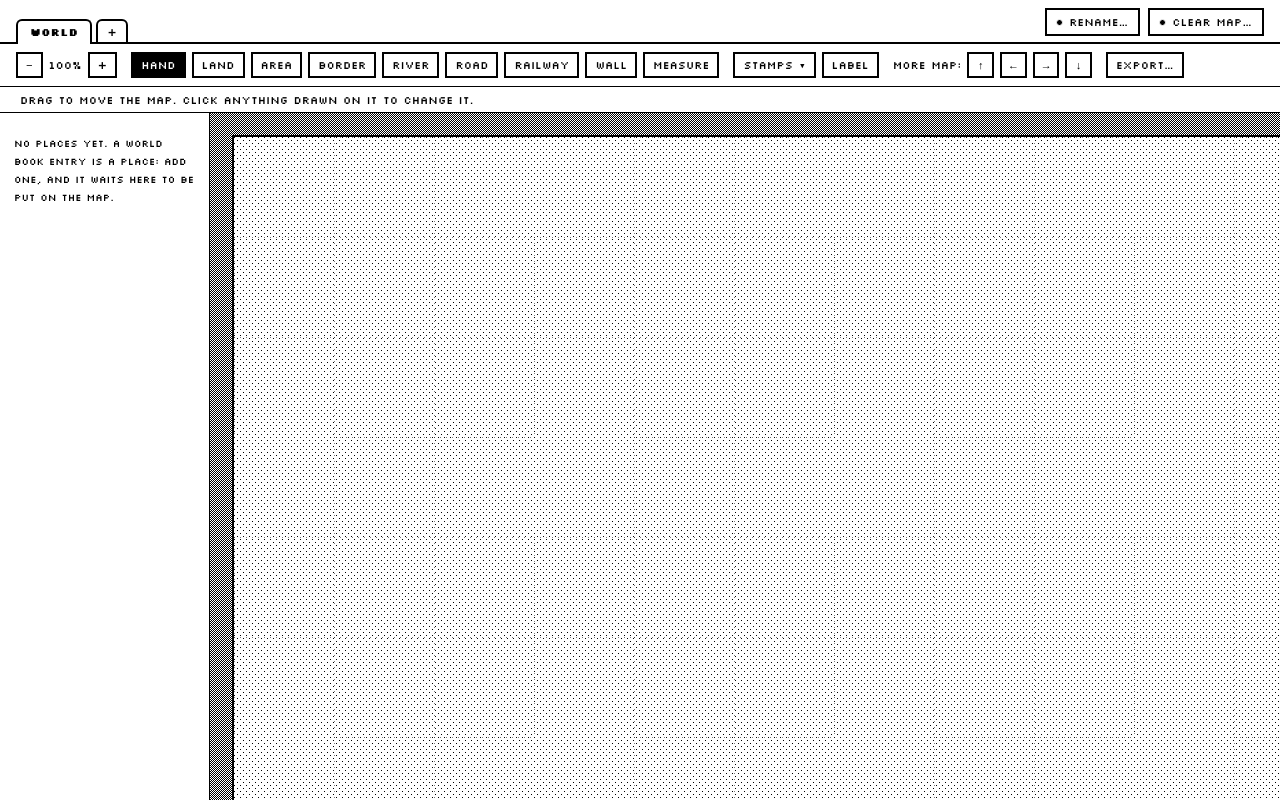
Test: a scale that is not usable › opens the map anyway, with no day’s travel, and offers to set it
The width and height of the screenshot is (1280, 800).
Click the button "Measure".
click(681, 65)  # box [643,52,720,78]
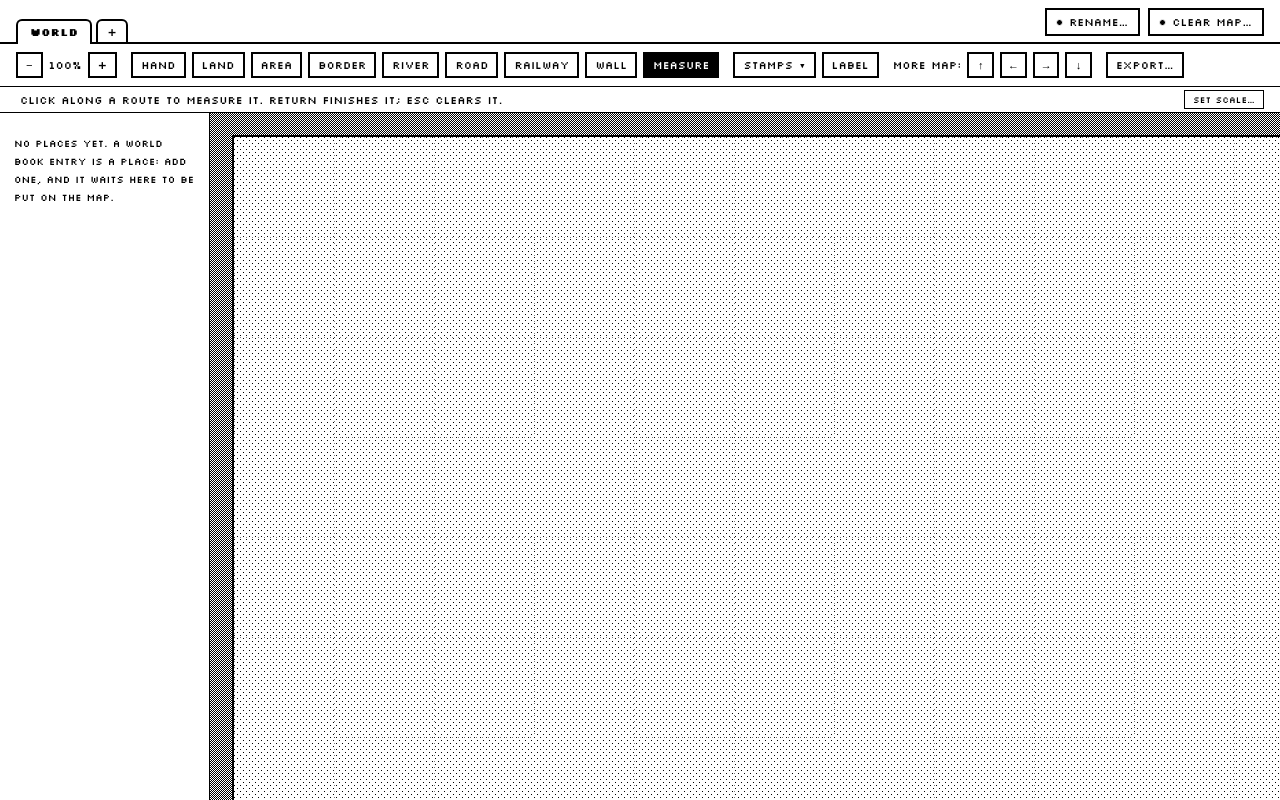
Expected: the button "Set Scale…" is shown
Click the button "Set Scale…".
click(1224, 100)  # box [1184,90,1264,109]
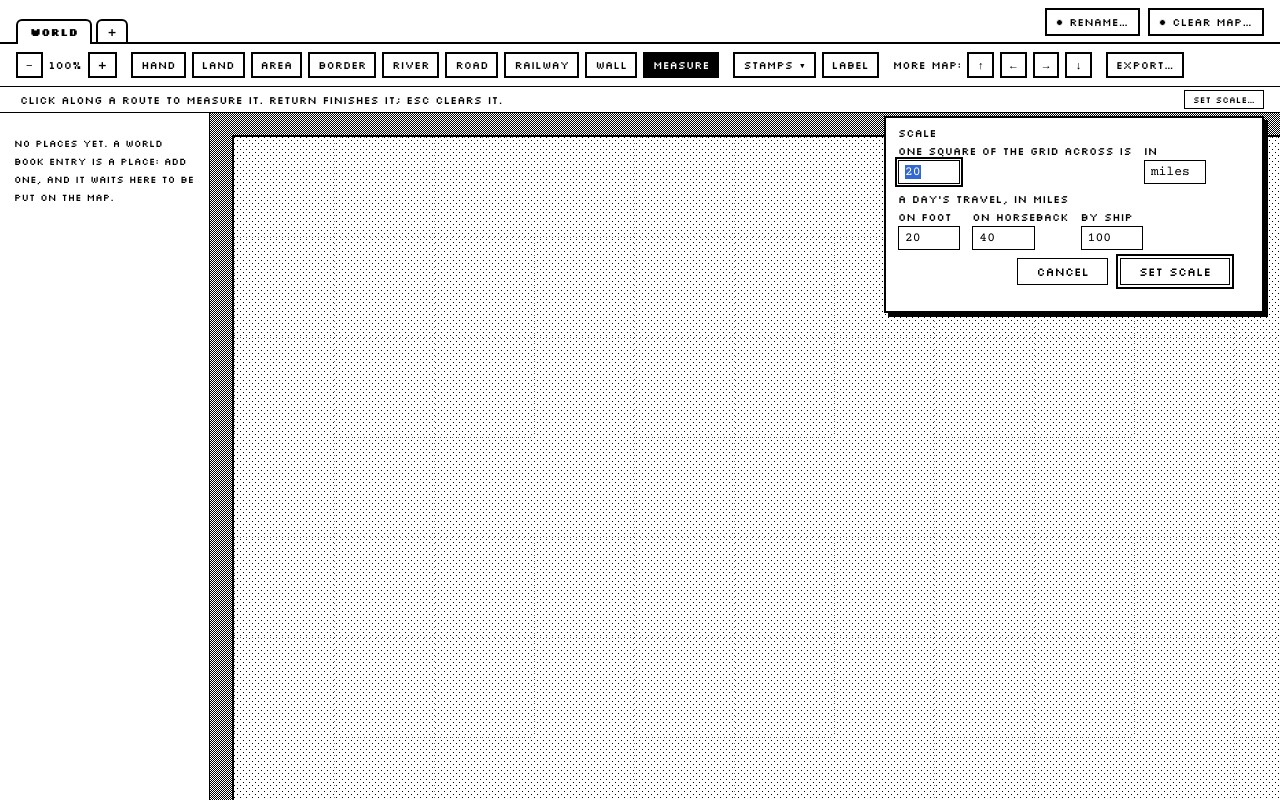
Expected: the dialog with class "map-scale-panel" is shown, [884,116,1264,313]
